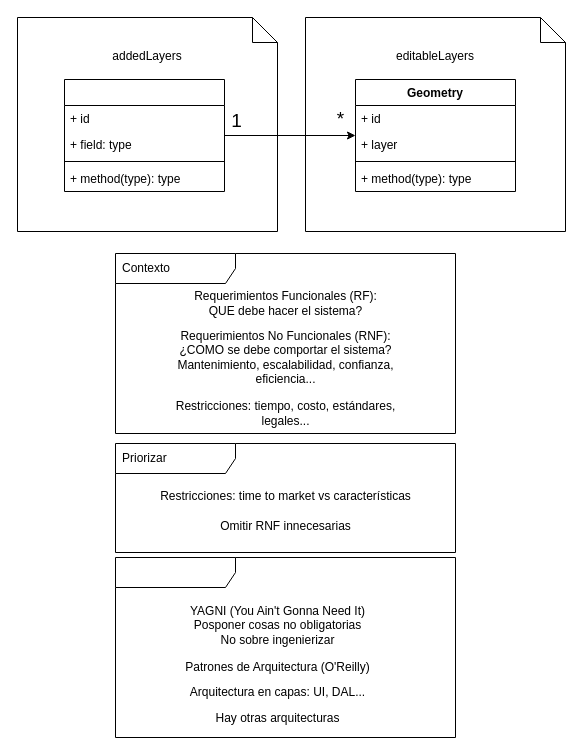
Some shapes in this 583 by 755 pixel diagram are drawn without their labels. Each missing label, with the box of its shape:
Diseño: (114, 556, 456, 738)
Layer: (64, 78, 224, 192)
